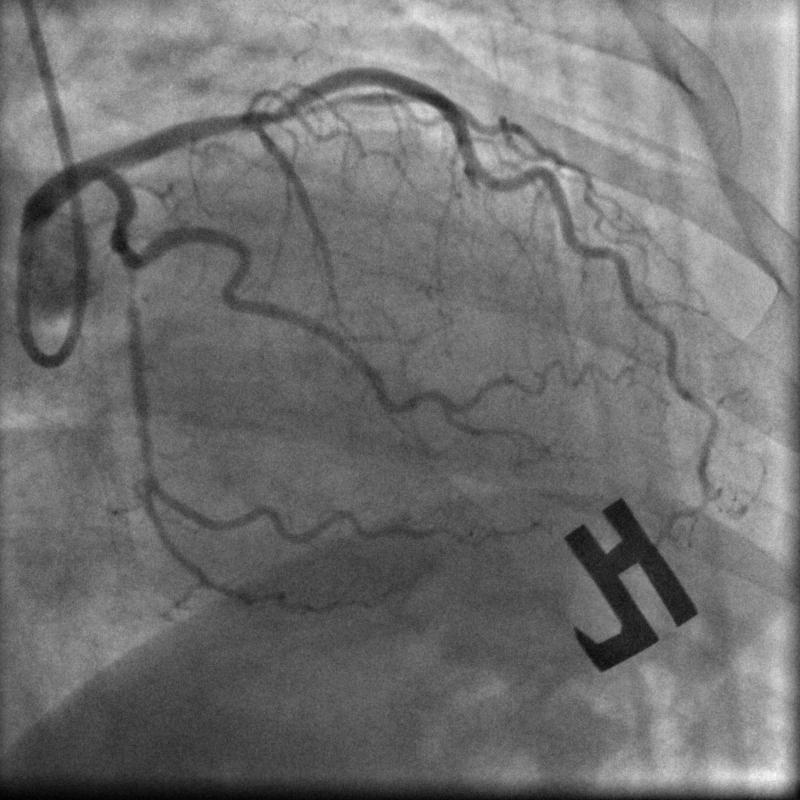Stenosis: (103, 201, 151, 268)
